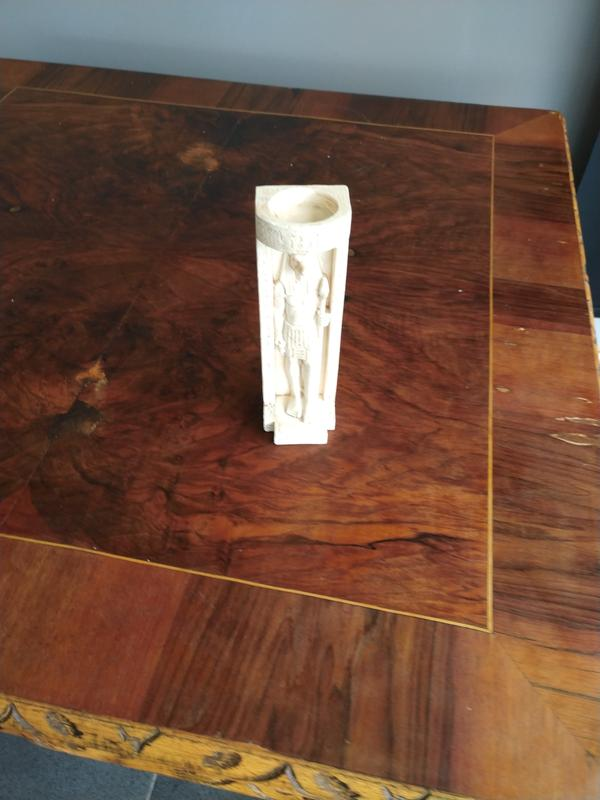heykel: (244, 179, 362, 450)
